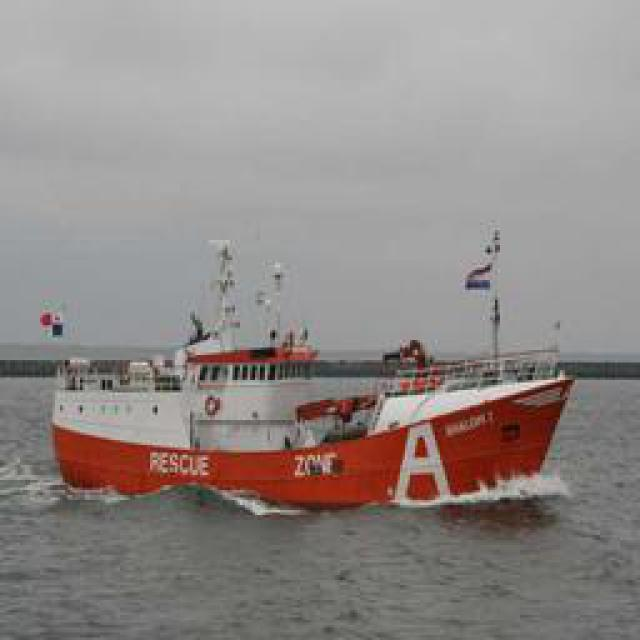Ship: (51, 235, 581, 508)
